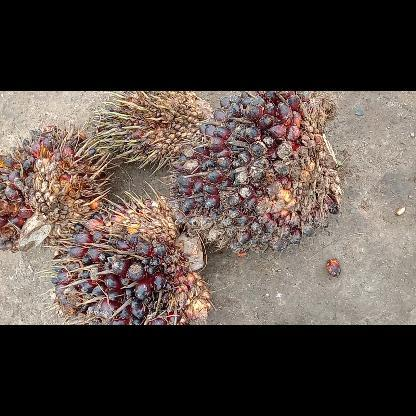Kurang masak: (174, 91, 338, 253), (50, 198, 212, 324)
TBS abnormal: (97, 91, 211, 167)
TBS masak: (0, 122, 105, 252)
